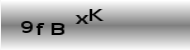9: (18, 20, 34, 34)
B: (48, 21, 66, 37)
K: (87, 7, 105, 22)
f: (35, 21, 46, 36)
x: (74, 13, 90, 26)
